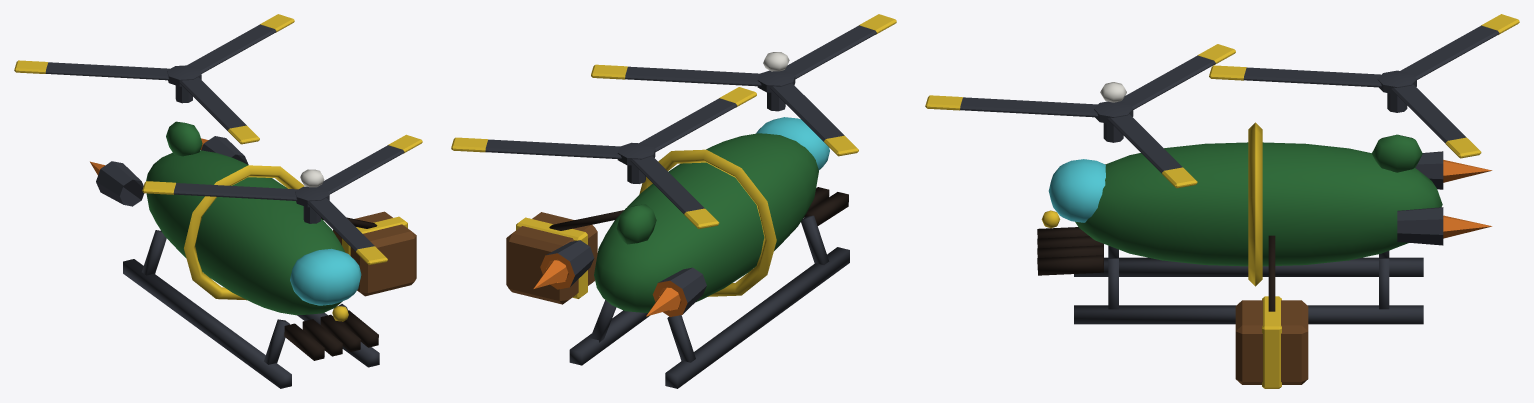
3 renders of one model, left to right at view 1: azimuth 30°, elevation 25°; view 2: azimuth 150°, elevation 25°; view 3: azimuth 270°, elevation 25°, orthographic. The views are drawn at different scales.
Visible parts, largest first — view 1: heli_0_base, heli_1_torreta; view 2: heli_0_base, heli_1_torreta; view 3: heli_0_base, heli_1_torreta.
Boxes of the visible parts, x1,y1,x2,y2 form: heli_0_base: (90, 121, 416, 388); heli_1_torreta: (14, 14, 422, 264); heli_0_base: (506, 117, 849, 388); heli_1_torreta: (451, 14, 896, 228); heli_0_base: (1037, 122, 1492, 388); heli_1_torreta: (925, 14, 1519, 188).
Size of the model in its own units: 1.11 by 0.755 by 1.8.
